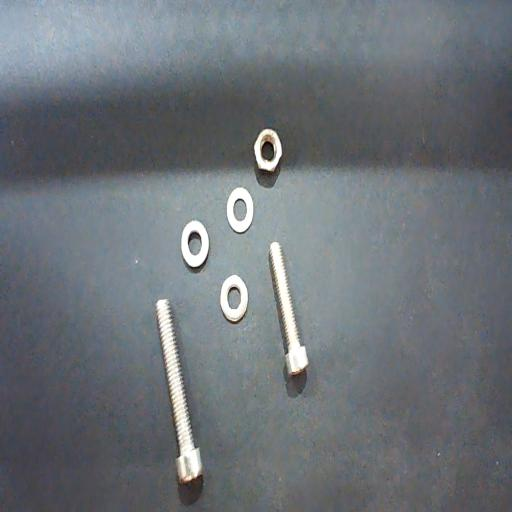nut: (254, 128, 282, 172)
screw: (156, 298, 202, 484), (268, 241, 309, 377)
washer: (181, 220, 209, 268), (220, 275, 248, 322), (227, 187, 254, 234)
